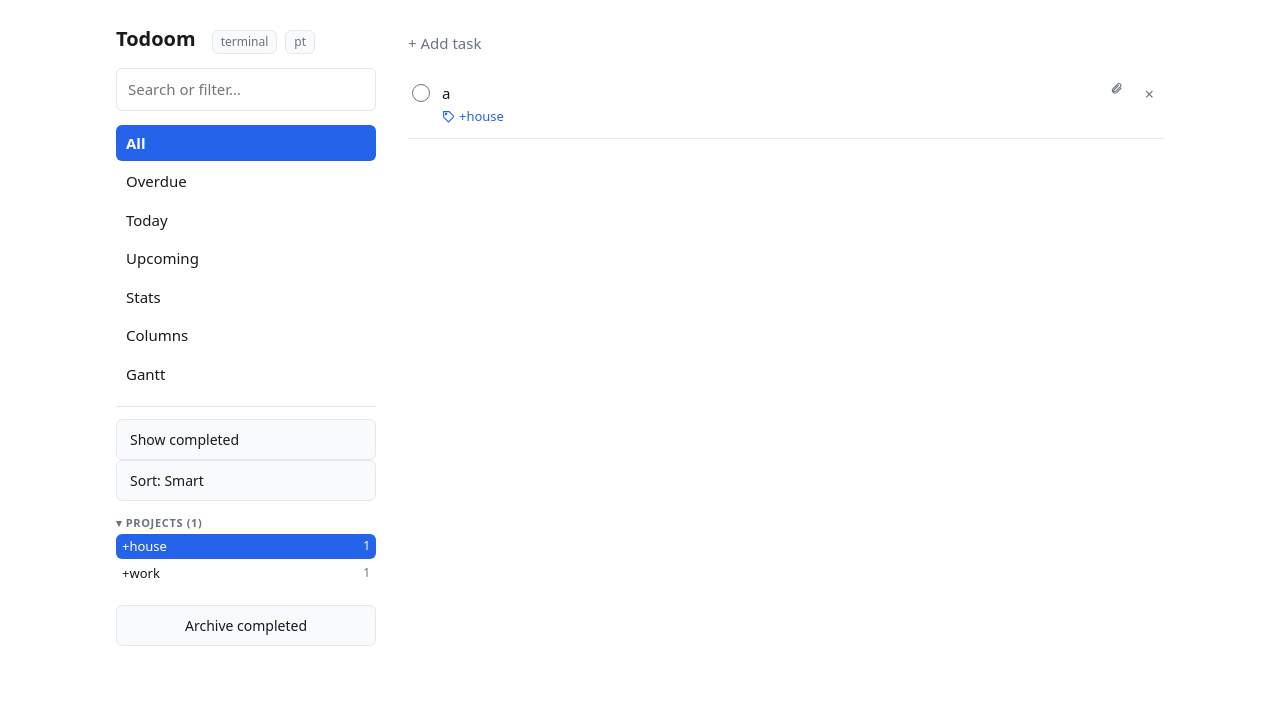
Test: label sections › marks the active row and keeps the section open while selected
Click the button with class "labels__heading": (154, 522) [116,515,376,532]
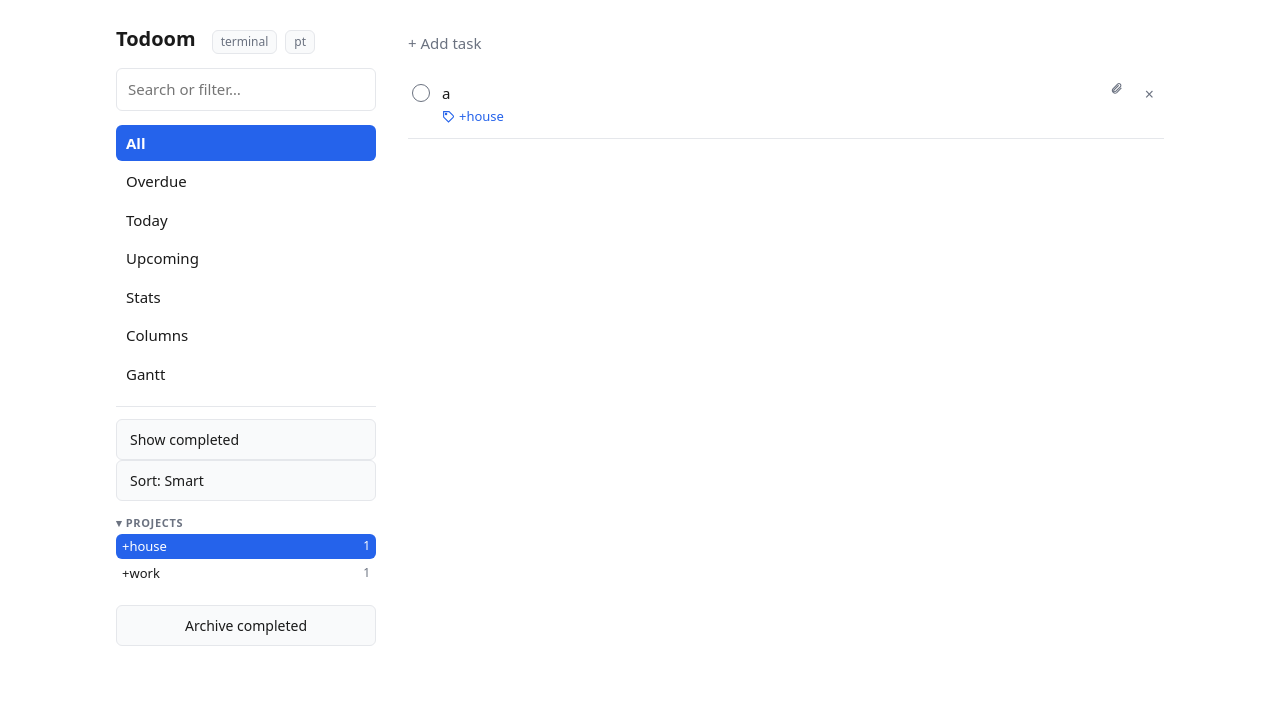
Now the button with class "labels__heading" reads "▾ Projects"
Click the button with class "labels__heading": (154, 522) [116,515,376,532]
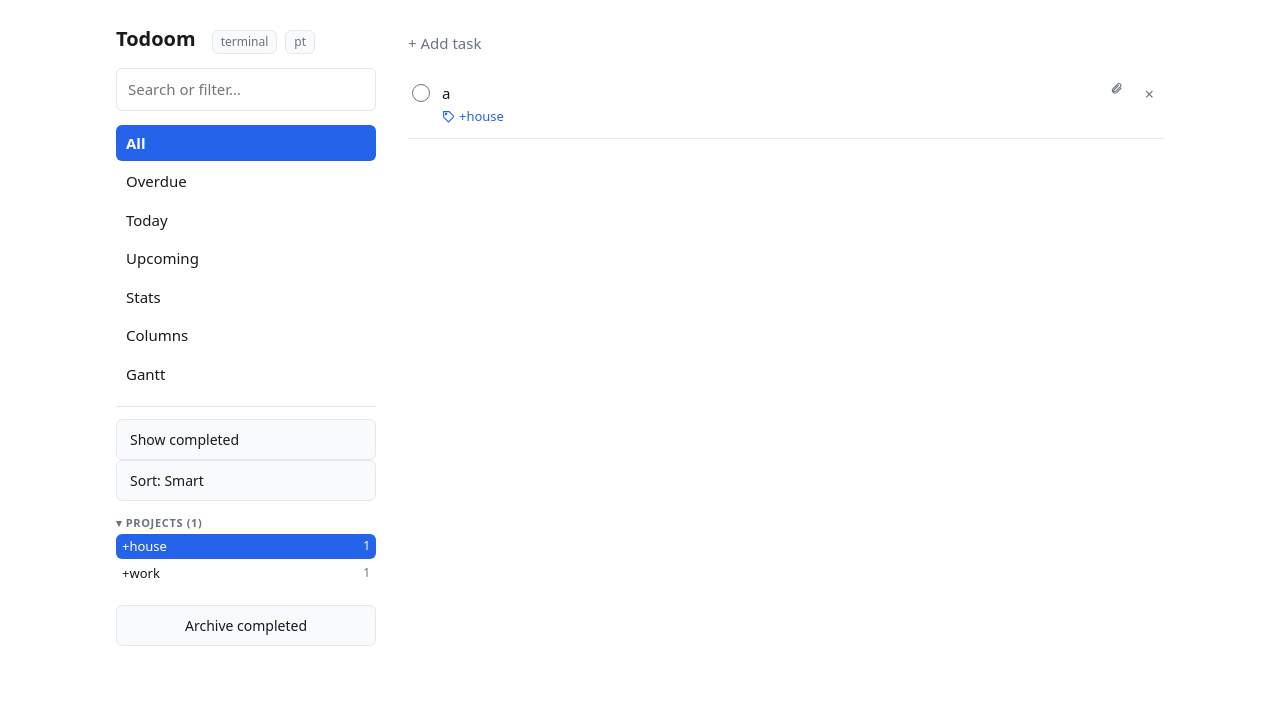
Now the button with class "labels__heading" reads "▾ Projects (1)", box [116,515,376,532]
Click the button with class "labels__row" showing "+house 1": (148, 546) [116,534,376,559]
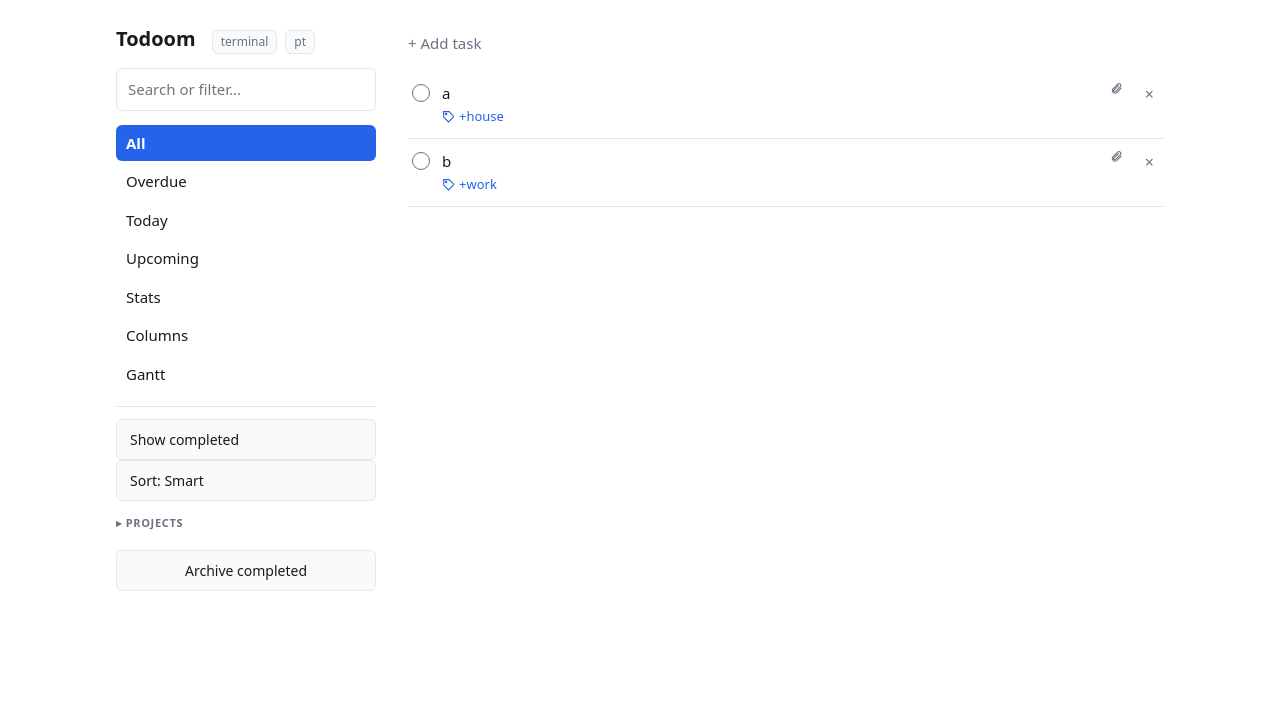
Now no buttons with class "labels__row" are shown
Now the button with class "labels__heading" reads "▸ Projects", box [116,515,376,532]
